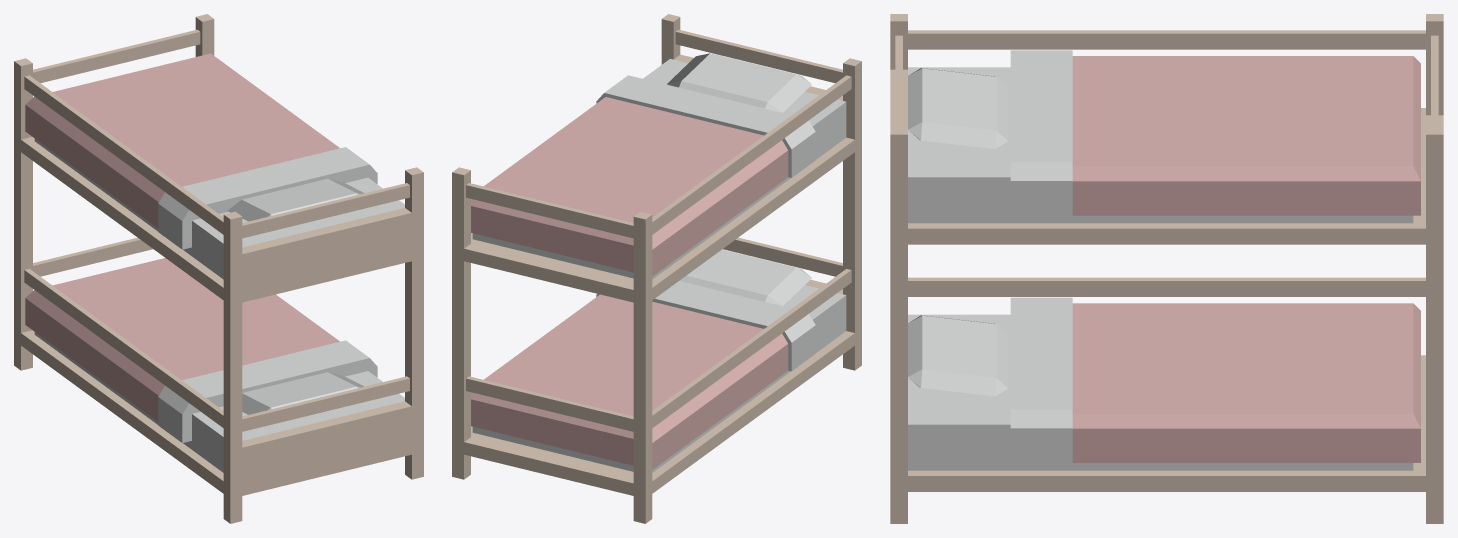
The model's file is furn_bedBunk.glb.
3 views of the same model, side by side, from view 1: azimuth 30°, elevation 25°; view 2: azimuth 150°, elevation 25°; view 3: azimuth 270°, elevation 25° (orthographic). The views are drawn at different scales.
Size of the model in its own units: 1.14 by 1.7 by 2.19.
